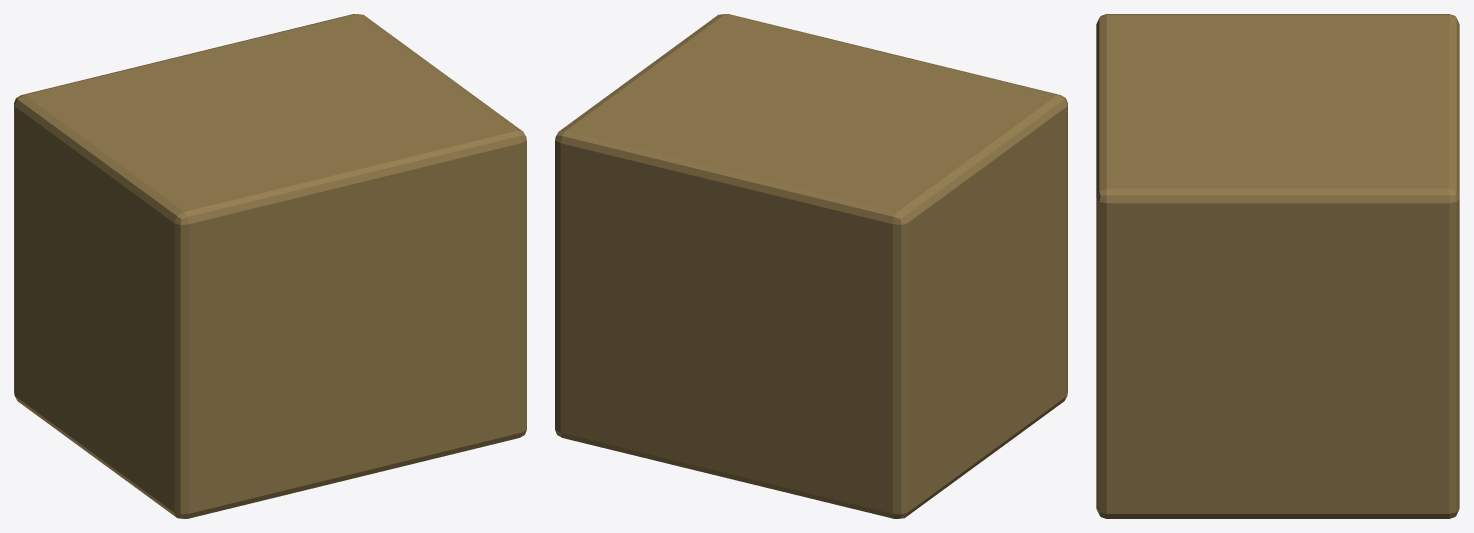
Rendered from Package.fbx.
3 views of the same model, side by side, from view 1: azimuth 30°, elevation 25°; view 2: azimuth 150°, elevation 25°; view 3: azimuth 270°, elevation 25° (orthographic). The views are drawn at different scales.
Parts seen in each view (by area): view 1: Package; view 2: Package; view 3: Package.
Part boxes in pixels (left/top/right/bottom): Package: left=14, top=14, right=526, bottom=518; Package: left=555, top=14, right=1067, bottom=518; Package: left=1096, top=14, right=1459, bottom=518.
Bounding box in the file's own units: 120 × 100 × 100.
